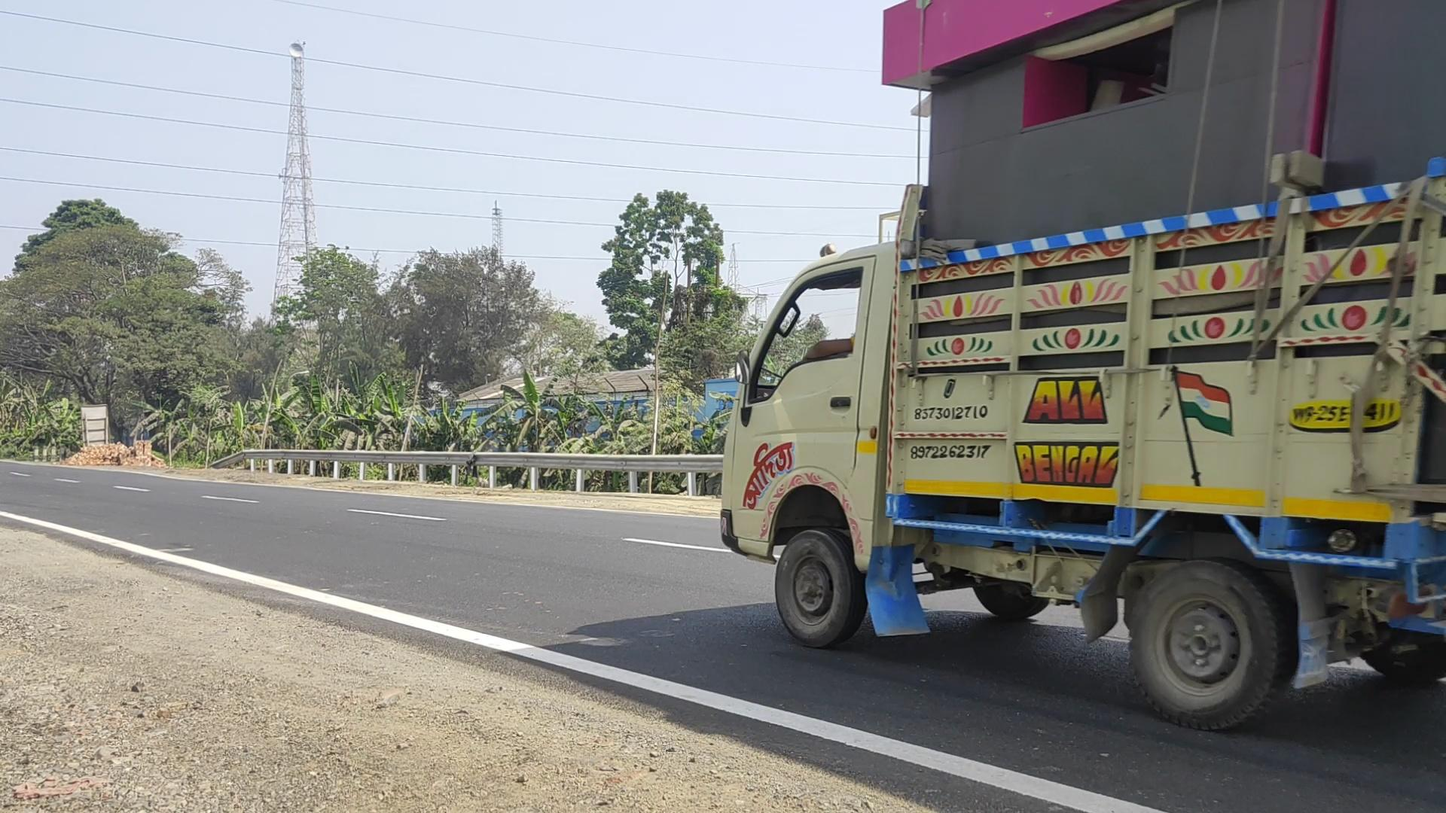van: (717, 1, 1446, 729)
